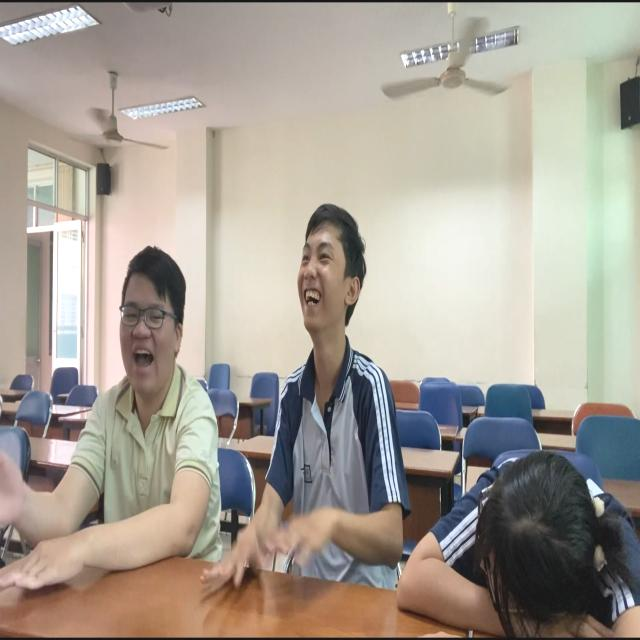sleep: (369, 436, 640, 640)
